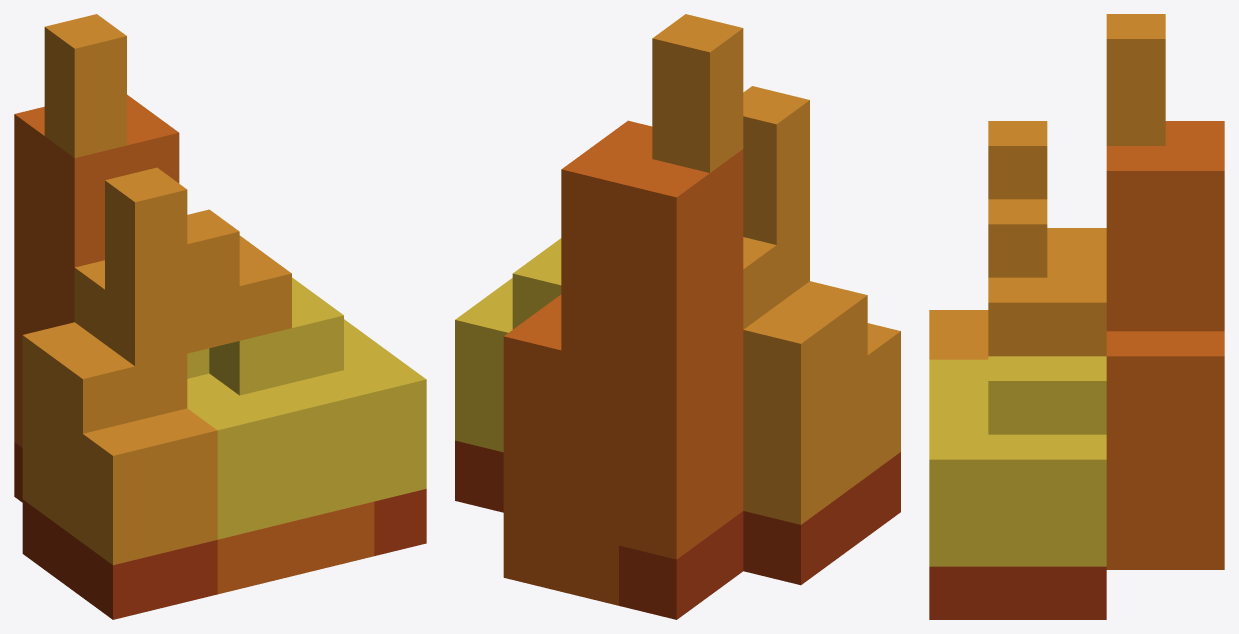
Rendered from flame_00.glb.
3 views of the same model, side by side, from view 1: azimuth 30°, elevation 25°; view 2: azimuth 150°, elevation 25°; view 3: azimuth 270°, elevation 25° (orthographic). The views are drawn at different scales.
Visible parts, largest first — view 1: flame_00; view 2: flame_00; view 3: flame_00.
Part boxes in pixels (box(x1,y1,x2,y2)): flame_00: box(14, 14, 426, 619); flame_00: box(455, 14, 900, 619); flame_00: box(929, 14, 1224, 619).
Size of the model in its own units: 0.75 by 1.12 by 0.625.
